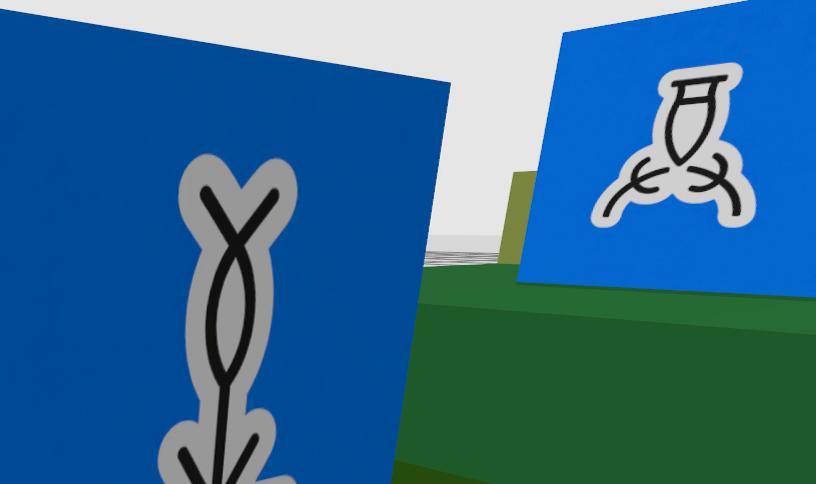KFS_REAL: (0, 10, 448, 484), (519, 0, 815, 297), (603, 11, 815, 255), (145, 154, 295, 484), (591, 63, 756, 227)
